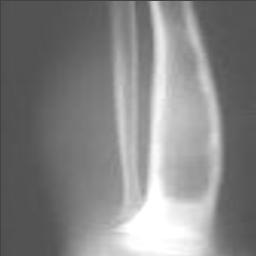cancer: (149, 0, 220, 203)
